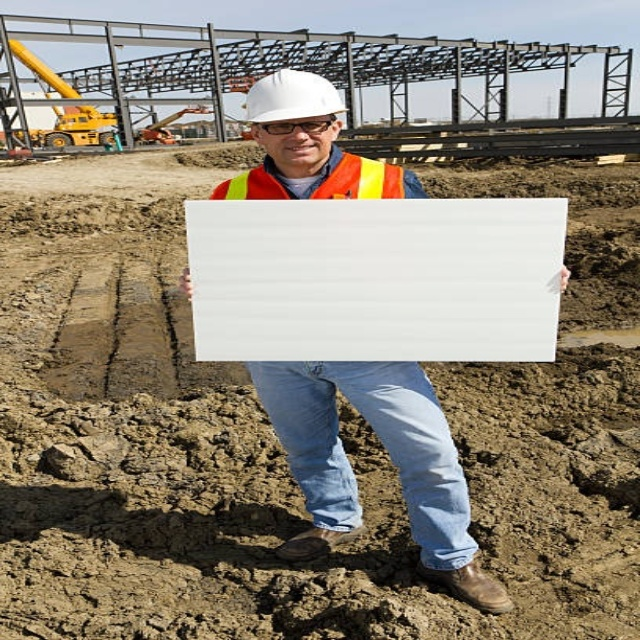Gafas: (256, 115, 336, 134)
Sin_mascara: (279, 143, 323, 164)
